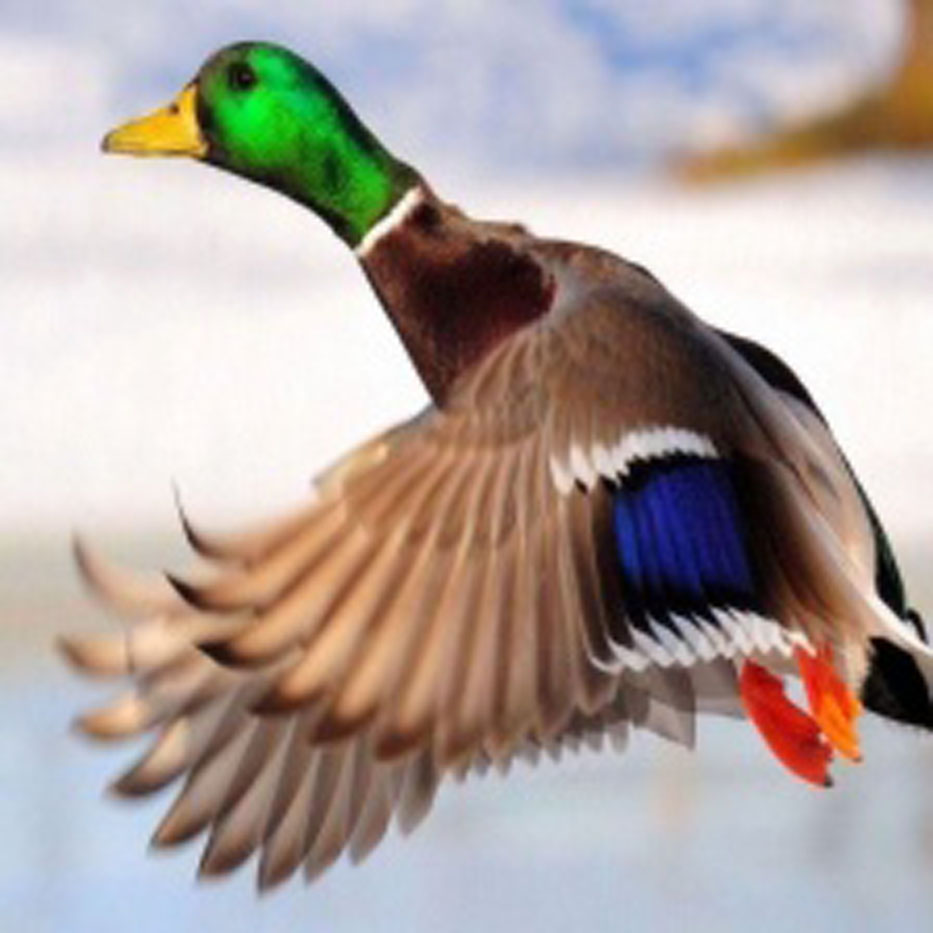Mencari Makan di Lumpur: (86, 85, 211, 185)
